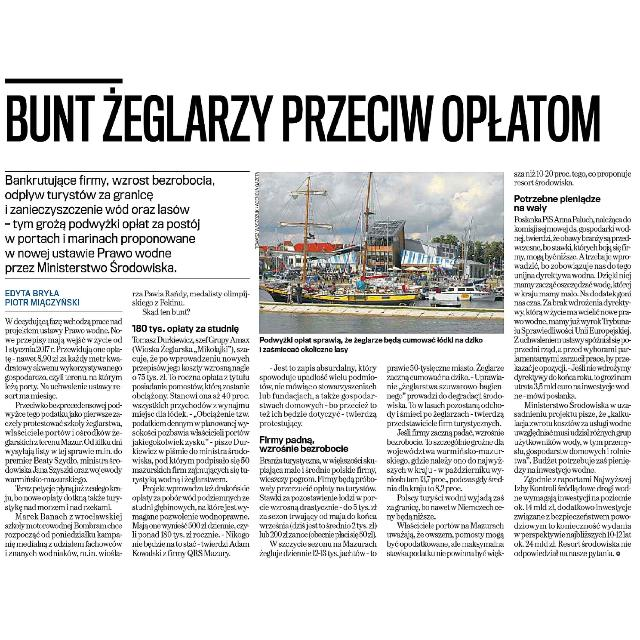author: (3, 282, 88, 308)
body: (510, 167, 640, 558), (128, 287, 254, 559), (3, 314, 126, 560), (258, 360, 380, 558), (386, 358, 506, 558)
caption: (258, 333, 486, 353)
image: (256, 168, 506, 336)
lead: (3, 172, 223, 276)
title: (3, 86, 615, 146)
